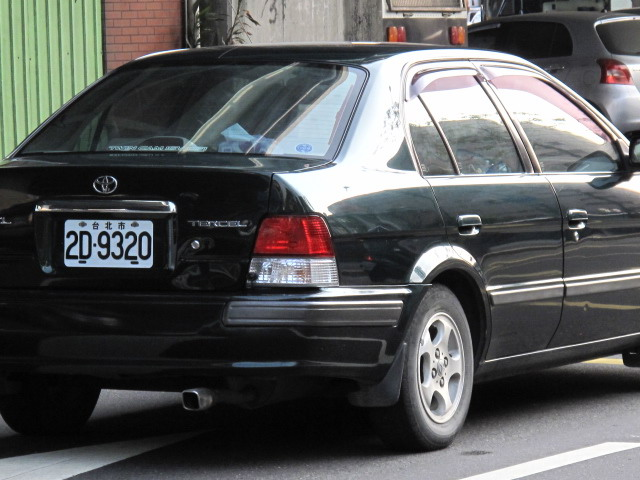plate: (59, 216, 157, 271)
